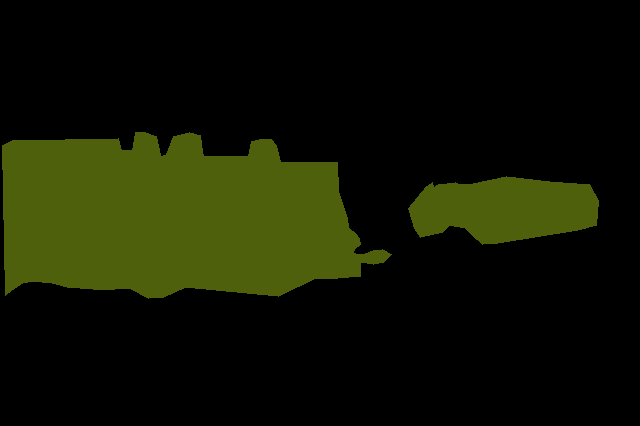Train: (2, 132, 391, 299), (408, 176, 598, 244)
